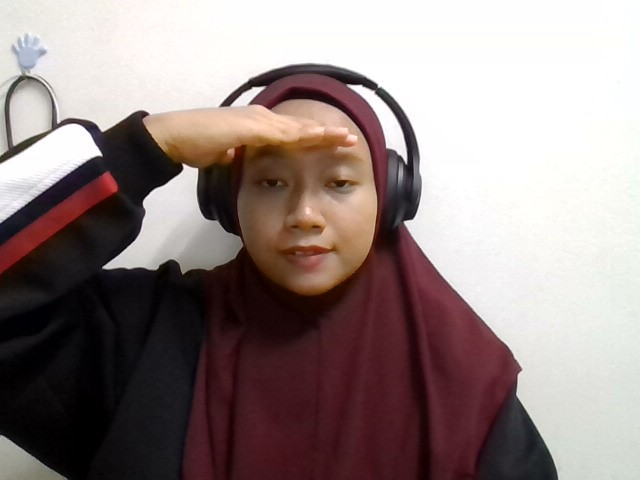Johor: (180, 104, 366, 170)
